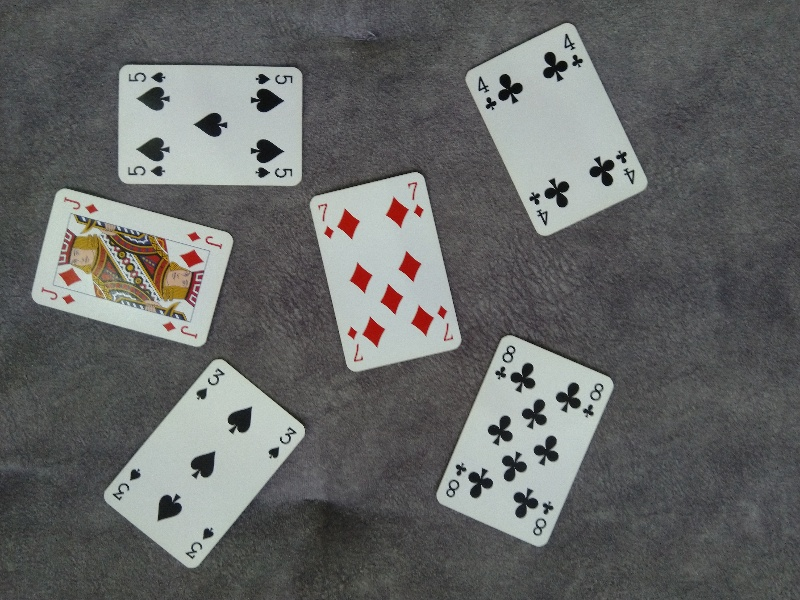3s: (182, 526, 217, 562), (110, 466, 143, 503), (195, 366, 227, 402), (267, 426, 298, 460)
4c: (563, 30, 585, 71), (615, 147, 638, 185), (476, 75, 499, 112), (529, 190, 549, 227)
5s: (125, 69, 170, 84), (254, 71, 294, 87), (124, 164, 169, 178), (254, 165, 295, 180)
7d: (405, 180, 426, 221), (317, 201, 336, 240)
8c: (531, 499, 557, 535), (444, 463, 469, 499), (581, 382, 605, 419), (495, 343, 516, 381)
Jd: (160, 317, 201, 340), (38, 286, 78, 308), (60, 196, 101, 216), (188, 229, 223, 249)
